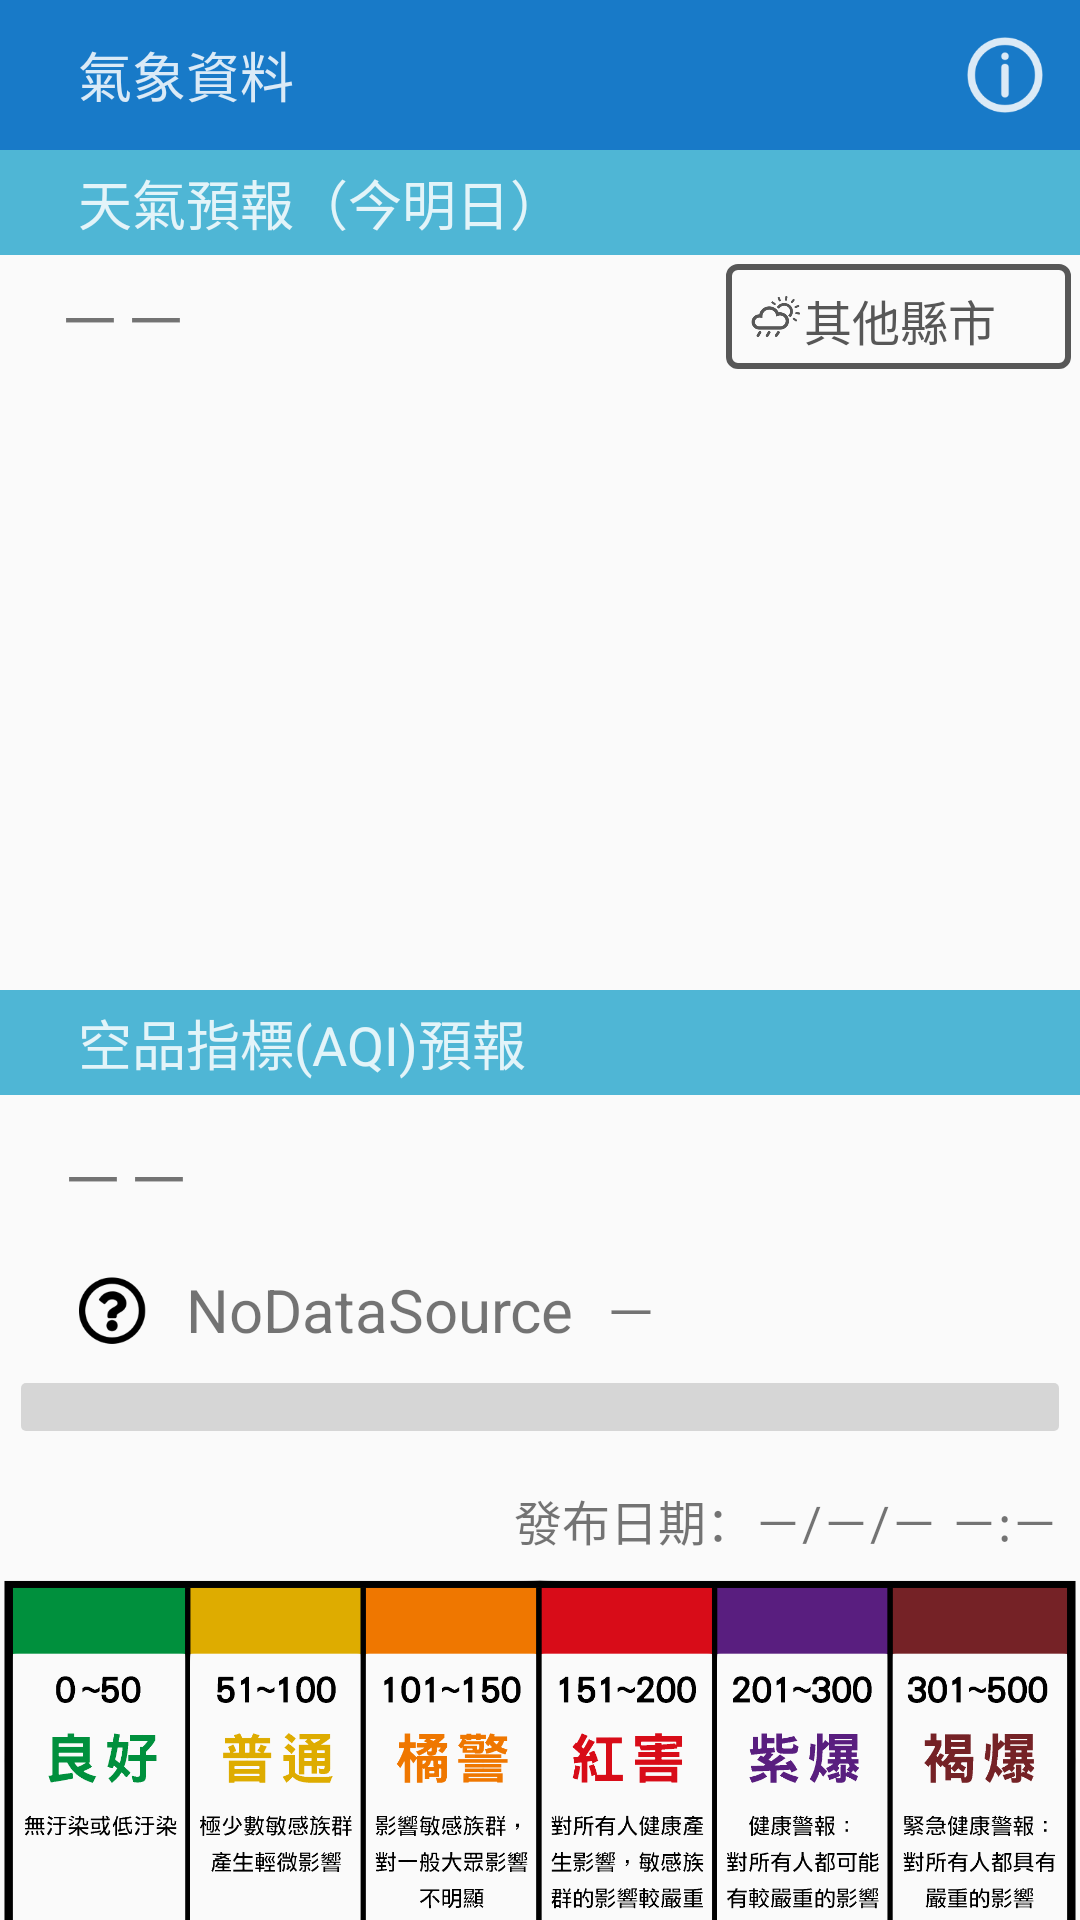

Icon click points for this 1080×1920 phone screenshot, format point (x, y):
about: point (1005, 75)
question: point (112, 1310)
